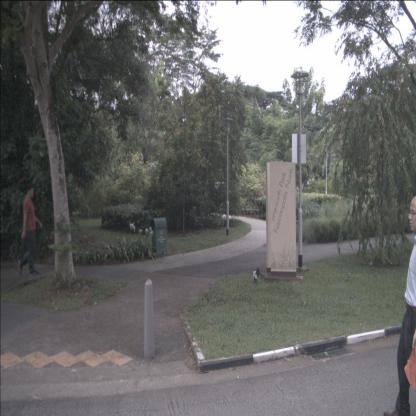human-pedestrian-adult: (384, 196, 415, 415), (18, 184, 42, 275)
